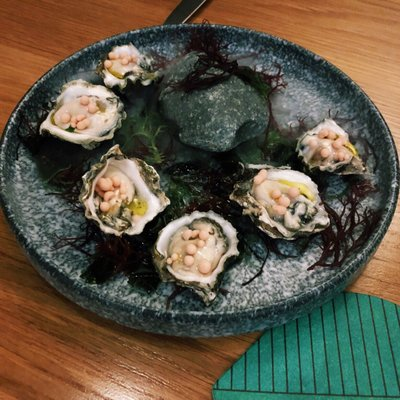sandwich: (161, 0, 208, 25)
sushi: (8, 19, 400, 350)
